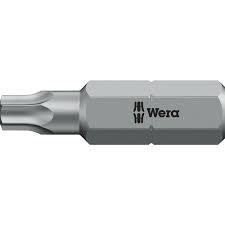screwdriver: (0, 77, 224, 145)
